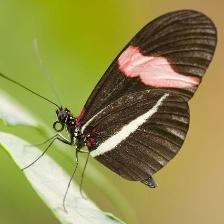butterfly: (53, 11, 218, 188)
